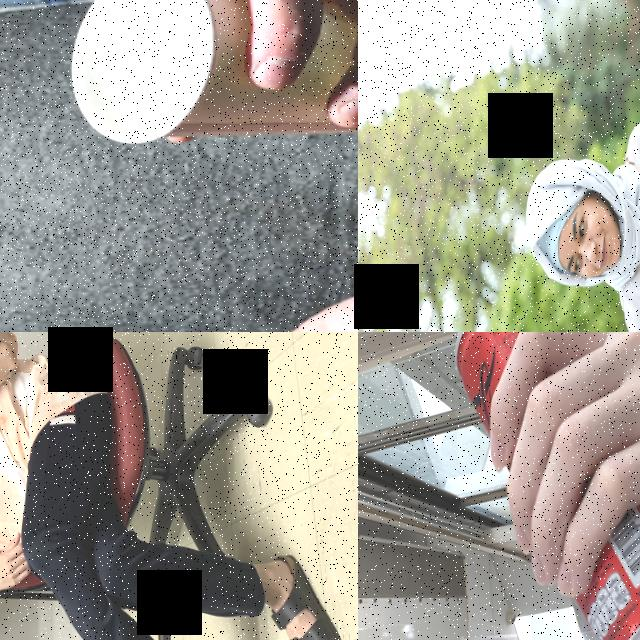can: (452, 332, 640, 640)
cup: (68, 0, 358, 145)
